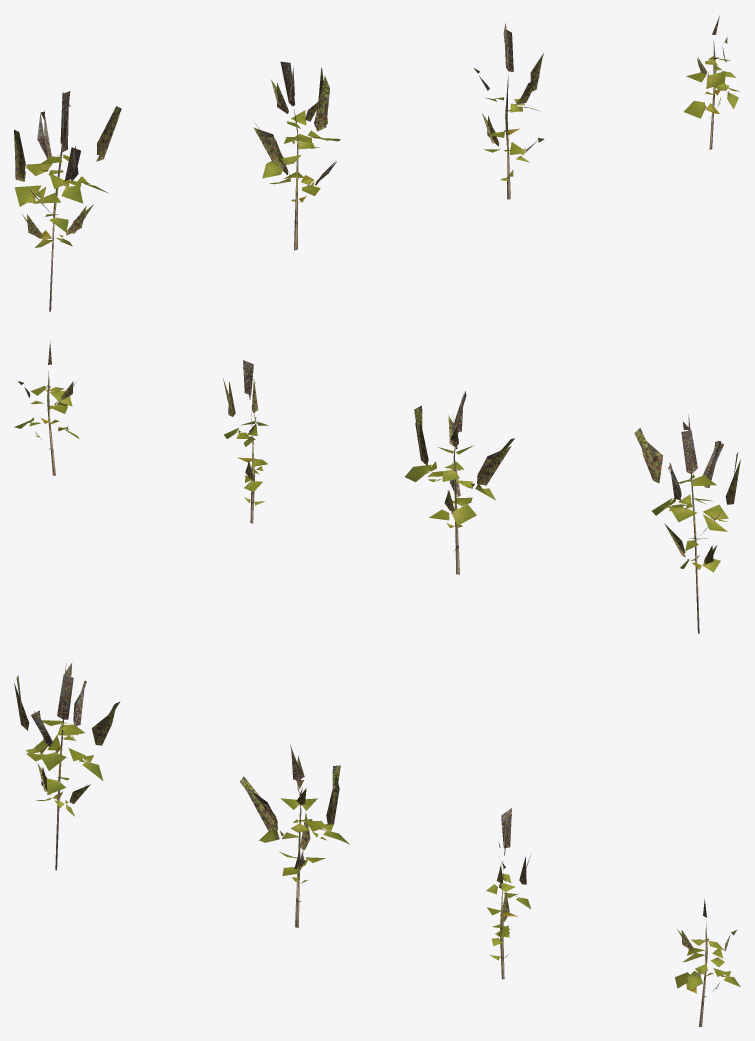
The model's file is shrub_03_lod2.gltf.
3 views of the same model, one above another, from view 1: azimuth 30°, elevation 25°; view 2: azimuth 150°, elevation 25°; view 3: azimuth 330°, elevation 25° (orthographic). The views are drawn at different scales.
Visible parts, largest first — view 1: shrub_03_lod2; view 2: shrub_03_lod2; view 3: shrub_03_lod2.
Part boxes in pixels (x1,y1,x2,y2): shrub_03_lod2: (14, 15, 740, 311); shrub_03_lod2: (14, 341, 740, 633); shrub_03_lod2: (14, 662, 740, 1026).
Bounding box in the file's own units: 1.37 × 0.3913 × 0.1537.
Materials: 1 (1 with a texture image).
